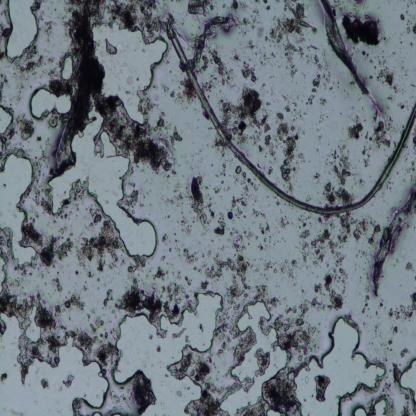Air bubble: (42, 114, 161, 264), (112, 288, 223, 416), (0, 306, 109, 414), (294, 313, 387, 415), (92, 21, 168, 125), (226, 298, 288, 415), (0, 149, 37, 269), (5, 0, 41, 60), (336, 390, 392, 415), (28, 86, 71, 117), (399, 356, 416, 404), (59, 54, 75, 83), (0, 106, 15, 135)
Background material: (92, 91, 188, 171), (56, 11, 102, 168), (204, 244, 276, 309), (0, 291, 62, 365), (296, 215, 382, 265), (220, 86, 277, 155), (71, 0, 166, 40), (266, 1, 314, 74), (120, 280, 182, 324), (274, 304, 318, 360), (74, 222, 124, 271), (274, 105, 305, 184), (318, 143, 355, 206), (69, 323, 118, 370), (25, 222, 72, 268), (184, 175, 214, 226), (310, 269, 348, 309), (177, 347, 212, 389), (342, 13, 382, 49), (214, 194, 246, 235), (200, 48, 235, 85), (266, 377, 300, 412), (306, 52, 328, 106), (184, 390, 231, 415), (386, 292, 416, 324), (369, 117, 394, 152), (132, 375, 156, 411), (16, 47, 45, 74), (309, 372, 332, 406), (13, 119, 41, 146), (372, 60, 397, 90), (233, 164, 258, 193), (253, 345, 271, 379), (269, 258, 296, 280), (156, 231, 175, 258), (131, 253, 148, 283), (56, 294, 84, 312), (256, 221, 272, 251), (187, 0, 213, 18), (180, 241, 198, 266), (276, 212, 293, 237), (152, 262, 172, 282), (121, 190, 138, 210), (180, 81, 196, 102), (242, 61, 258, 81), (348, 121, 364, 141), (60, 374, 77, 390), (102, 34, 117, 52), (230, 1, 247, 13), (52, 276, 63, 294), (264, 162, 274, 180), (12, 276, 27, 287), (39, 376, 50, 390), (153, 343, 163, 355), (0, 369, 8, 381)
Cellulose filter fibre: (319, 0, 375, 107), (370, 194, 416, 296), (191, 15, 235, 68)
Diatom: (214, 322, 227, 336), (49, 116, 58, 128)
Microfibre: (167, 23, 416, 214)
